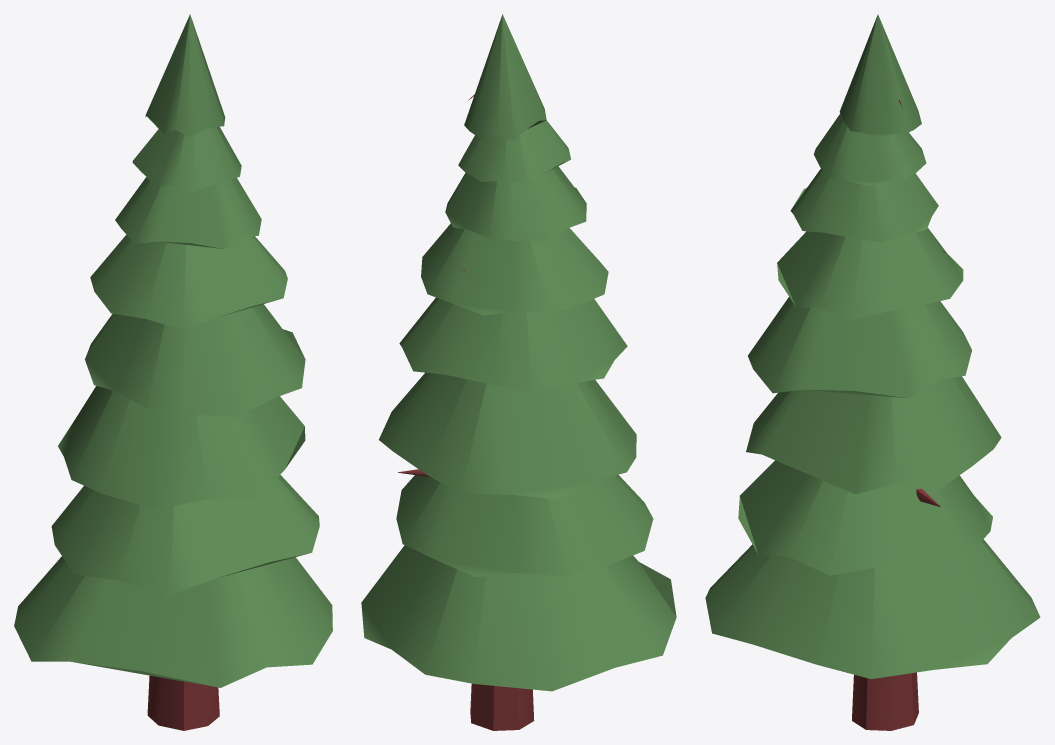
Rendered from pine_08.glb.
The picture shows the model from 3 angles, left to right: view 1: azimuth 30°, elevation 25°; view 2: azimuth 150°, elevation 25°; view 3: azimuth 270°, elevation 25°; orthographic projection.
Visible parts, largest first — view 1: default7_Material_0; view 2: default7_Material_0; view 3: default7_Material_0.
Part boxes in pixels (bbox=[...]): default7_Material_0: bbox=[14, 14, 332, 730]; default7_Material_0: bbox=[361, 14, 676, 730]; default7_Material_0: bbox=[705, 14, 1040, 730].
Bounding box in the file's own units: 0.0456 × 0.1074 × 0.0463.
Materials: 1 (1 with a texture image).
